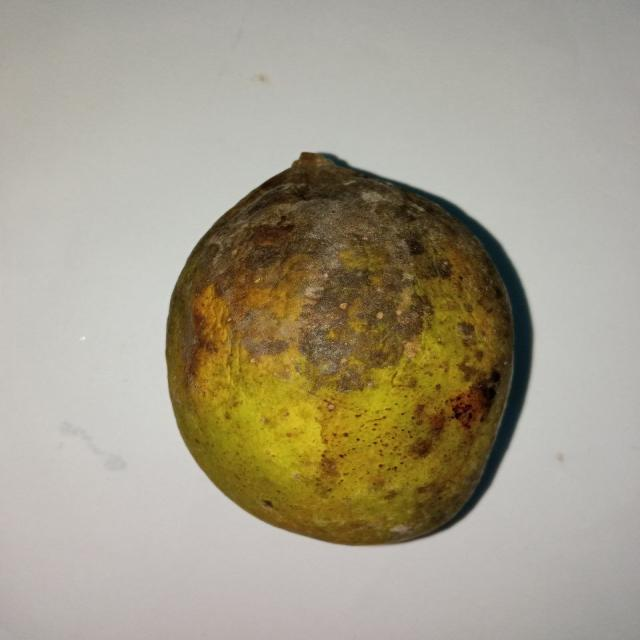rotten_mango: (164, 150, 516, 542)
